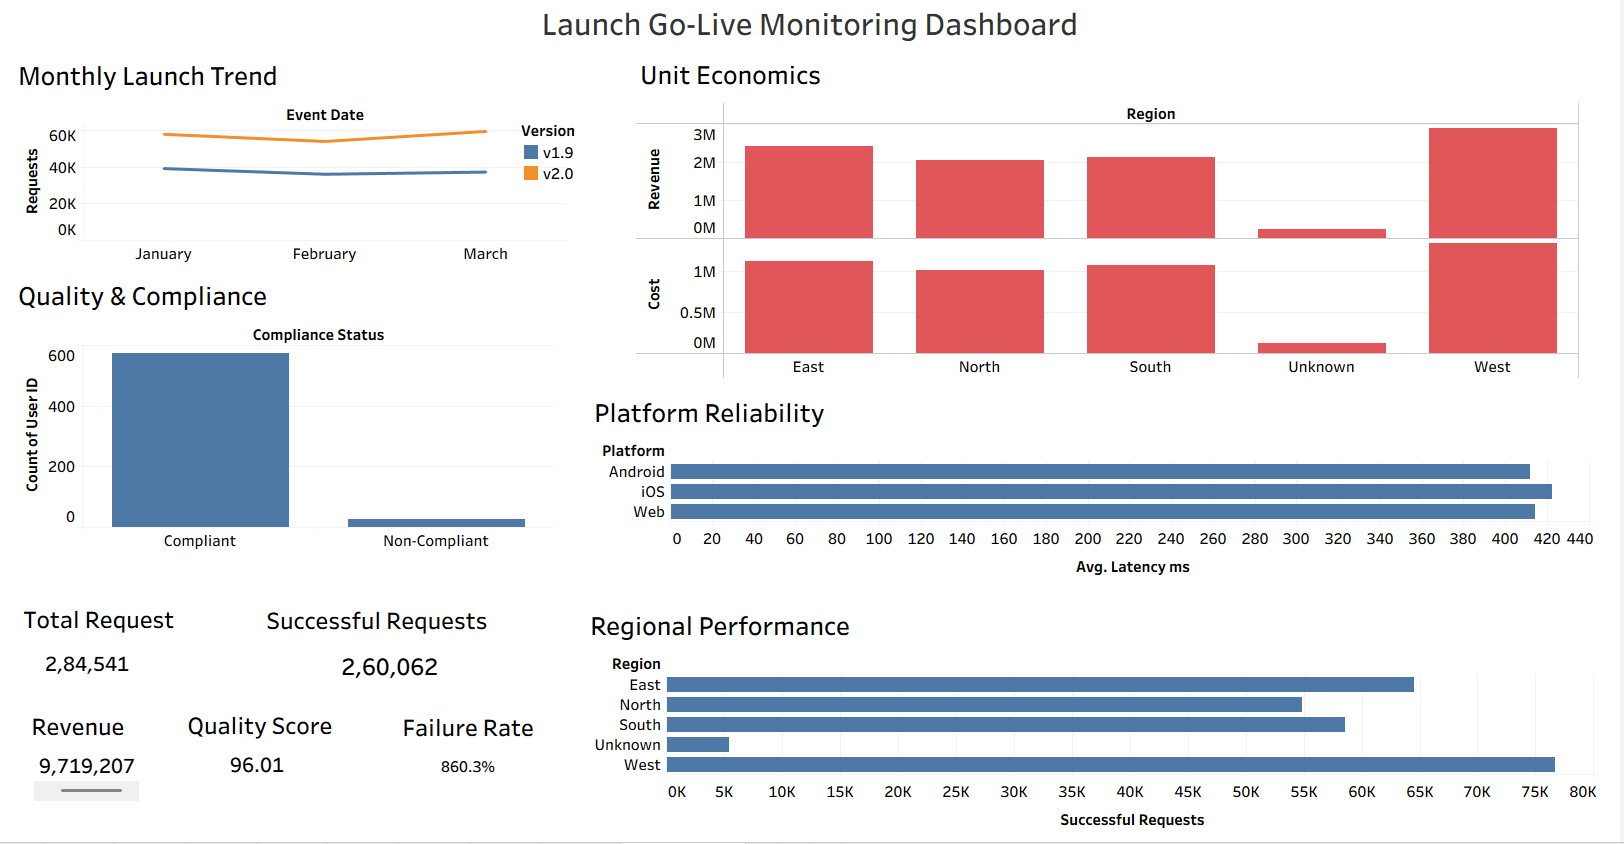

The page's visual inventory and layout, read from the dashboard file:
{"tool":"tableau","page":{"name":"Dashboard 1","canvas":[1620,860],"ordinal":0},"visuals":[{"type":"title","box":[8,8,1604,49]},{"type":"worksheet","title":"Sheet 10","mark":"Automatic","rows":["Revenue","Cost"],"cols":["Region"],"box":[636,63,943,326]},{"type":"worksheet","title":"Sheet 6","mark":"Automatic","rows":["Requests"],"cols":["Event_Date"],"box":[14,64,552,211]},{"type":"legend","title":"Sheet 6","param":"[federated.0b69cio03v2neq12wunj10um5x53].[none:Version:nk]","box":[521,130,76,64]},{"type":"worksheet","title":"Sheet 9","mark":"Bar","rows":["User_ID"],"cols":["Compliance_Status"],"box":[14,284,540,278]},{"type":"worksheet","title":"Sheet 8","mark":"Automatic","rows":["Platform"],"cols":["Latency_ms"],"box":[590,401,1006,208]},{"type":"text","box":[20,613,158,32]},{"type":"text","box":[263,614,228,32]},{"type":"worksheet","title":"Sheet 7","mark":"Automatic","rows":["Region"],"cols":["Successful_Requests"],"box":[586,614,1013,249]},{"type":"worksheet","title":"Sheet 1","mark":"Automatic","box":[33,660,108,63]},{"type":"worksheet","title":"Sheet 2","mark":"Automatic","box":[322,660,121,50]},{"type":"text","box":[184,719,152,32]},{"type":"text","box":[28,720,100,32]},{"type":"text","box":[399,721,139,32]},{"type":"worksheet","title":"Sheet 4","mark":"Automatic","box":[208,761,124,41]},{"type":"worksheet","title":"Sheet 3","mark":"Automatic","box":[34,762,105,56]},{"type":"worksheet","title":"Sheet 5","mark":"Automatic","box":[419,766,93,51]}]}

Visuals, with their boxes in screenshot pixels (x1, y1, x2, y2), scaled from the page's 1620x860 canvas onto the 1624x844 screenshot:
title: crop(8, 8, 1616, 56)
"Sheet 10" worksheet: crop(638, 62, 1583, 382)
"Sheet 6" worksheet: crop(14, 63, 567, 270)
"Sheet 6" legend: crop(522, 128, 598, 190)
"Sheet 9" worksheet (Bar marks): crop(14, 279, 555, 552)
"Sheet 8" worksheet: crop(591, 394, 1600, 598)
text: crop(20, 602, 178, 633)
text: crop(264, 603, 492, 634)
"Sheet 7" worksheet: crop(587, 603, 1603, 843)
"Sheet 1" worksheet: crop(33, 648, 141, 710)
"Sheet 2" worksheet: crop(323, 648, 444, 697)
text: crop(184, 706, 337, 737)
text: crop(28, 707, 128, 738)
text: crop(400, 708, 539, 739)
"Sheet 4" worksheet: crop(209, 747, 333, 787)
"Sheet 3" worksheet: crop(34, 748, 139, 803)
"Sheet 5" worksheet: crop(420, 752, 513, 802)
